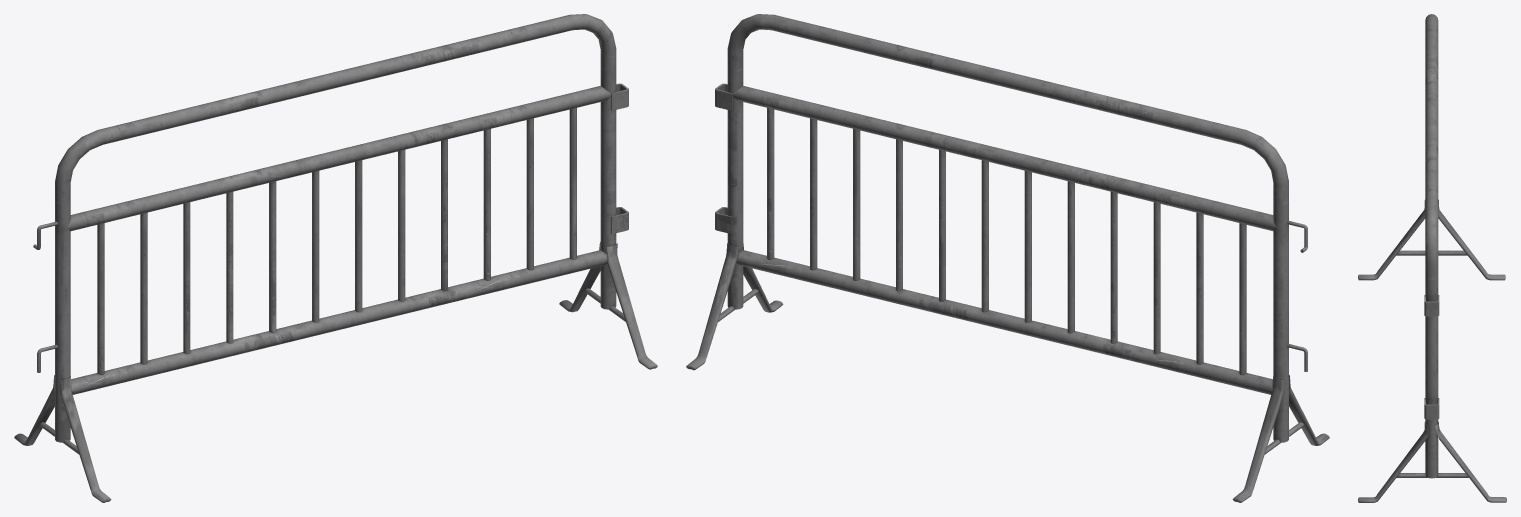
The model's file is barreira_aco.glb.
3 renders of one model, left to right at view 1: azimuth 30°, elevation 25°; view 2: azimuth 150°, elevation 25°; view 3: azimuth 270°, elevation 25°, orthographic. The views are drawn at different scales.
Visible parts, largest first — view 1: Fence4_0; view 2: Fence4_0; view 3: Fence4_0.
Part boxes in pixels (box(x1,y1,x2,y2)): Fence4_0: box(14, 14, 657, 502); Fence4_0: box(686, 14, 1329, 502); Fence4_0: box(1358, 14, 1506, 502).
Bounding box in the file's own units: 2.16 × 1.16 × 0.5654.
1 material, 1 textured.
